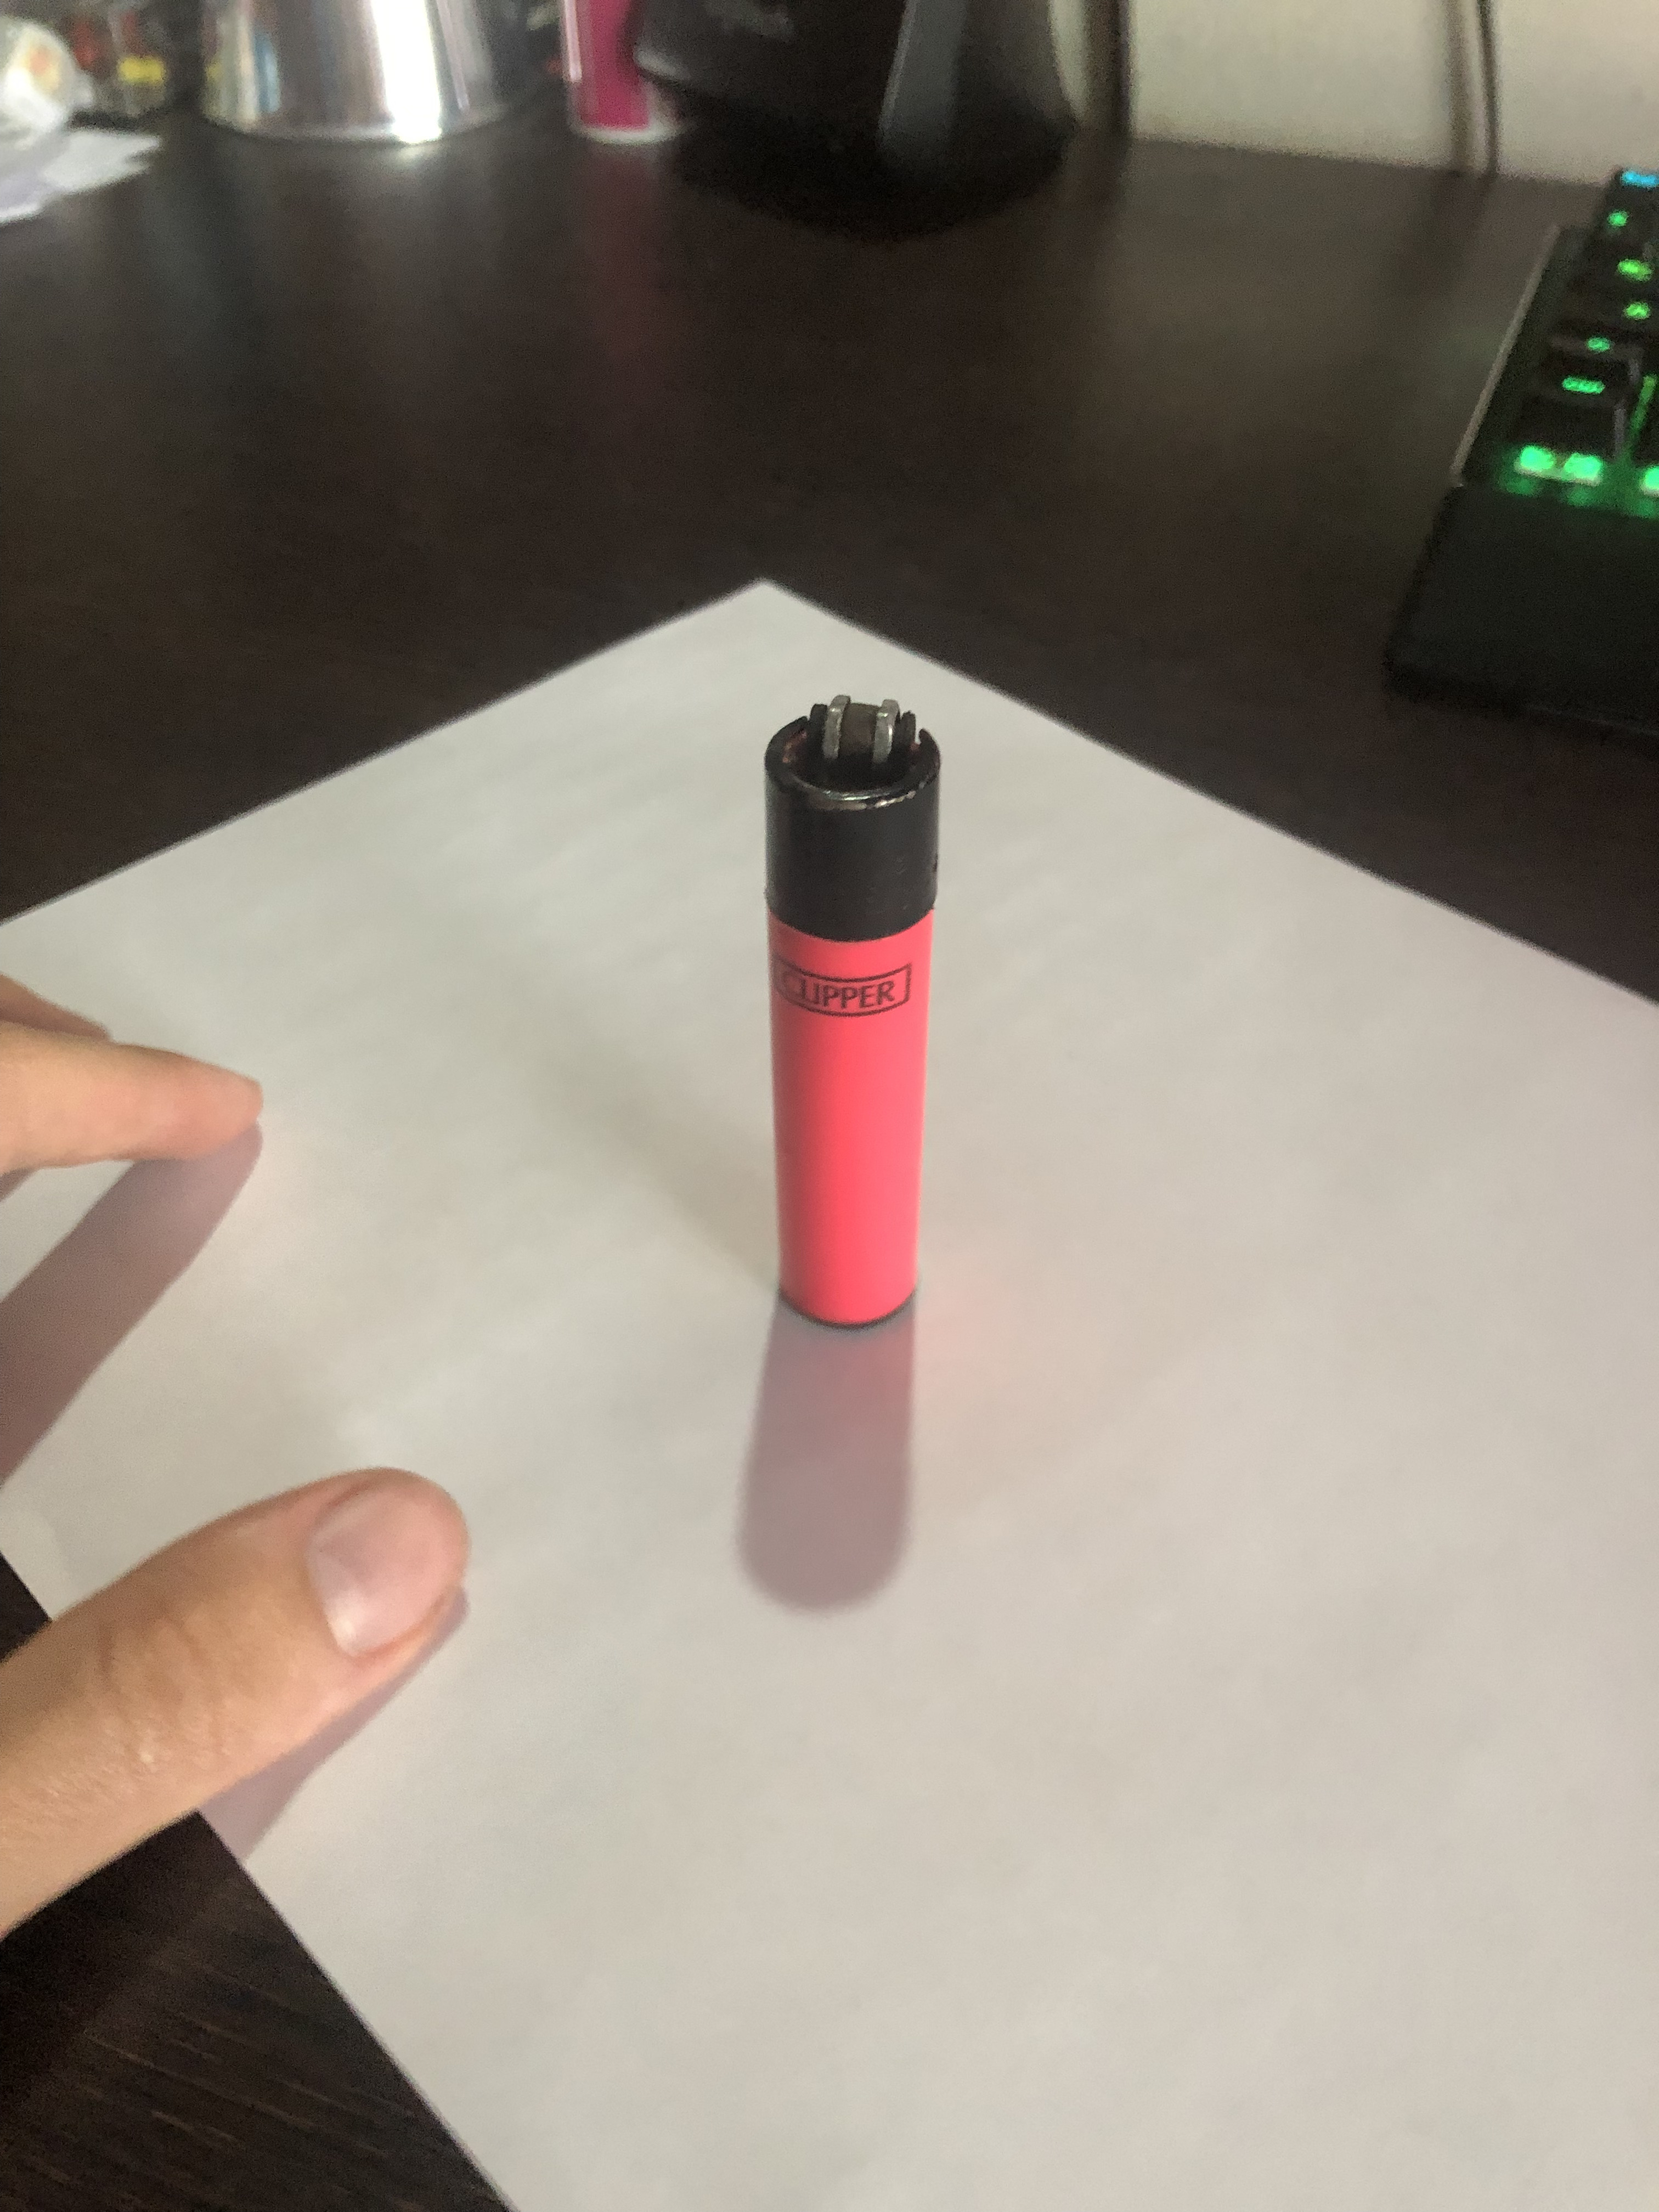Mechero: (758, 698, 943, 1341)
